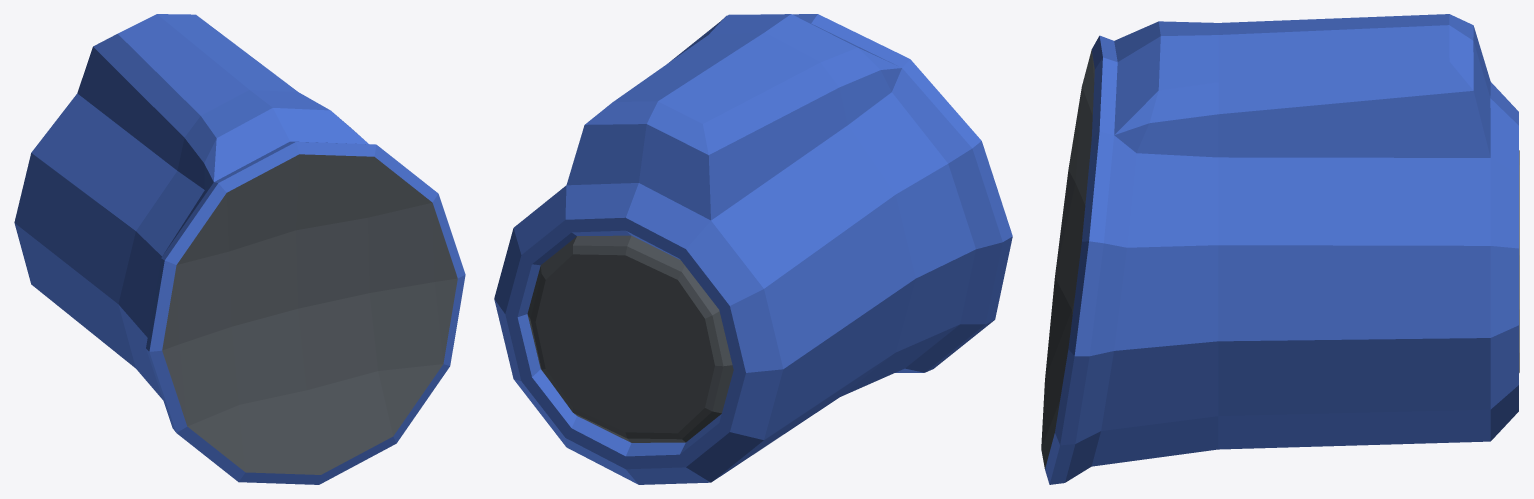
Rendered from Personal_Vehicle_04_Thruster_Blue.fbx.
The picture shows the model from 3 angles, left to right: view 1: azimuth 30°, elevation 25°; view 2: azimuth 150°, elevation 25°; view 3: azimuth 270°, elevation 25°; orthographic projection. The views are drawn at different scales.
Visible parts, largest first — view 1: Personal_Vehicle_04_Thruster_Blue; view 2: Personal_Vehicle_04_Thruster_Blue; view 3: Personal_Vehicle_04_Thruster_Blue.
Boxes of the visible parts, <box> form: Personal_Vehicle_04_Thruster_Blue: <box>14,14,465,484</box>; Personal_Vehicle_04_Thruster_Blue: <box>494,14,1012,484</box>; Personal_Vehicle_04_Thruster_Blue: <box>1041,14,1519,484</box>.
Size of the model in its own units: 80.27 by 85.42 by 84.6.
1 material, 1 textured.
